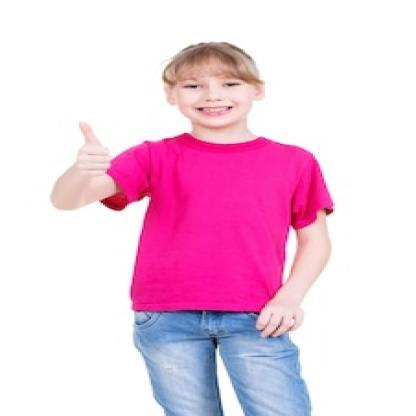thumb_up: (60, 118, 125, 180)
